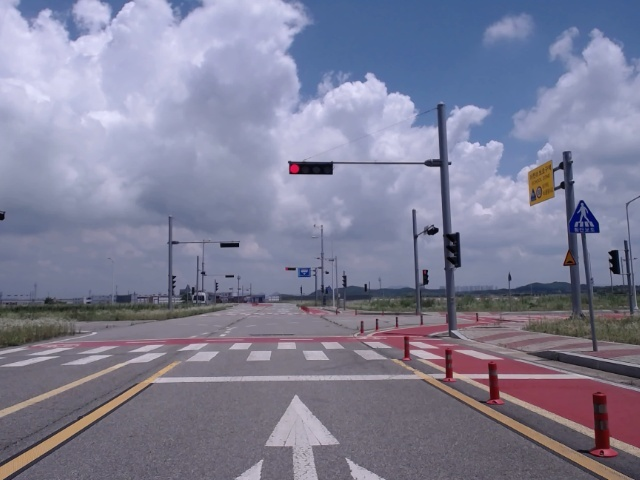red_4: (288, 161, 333, 175)
